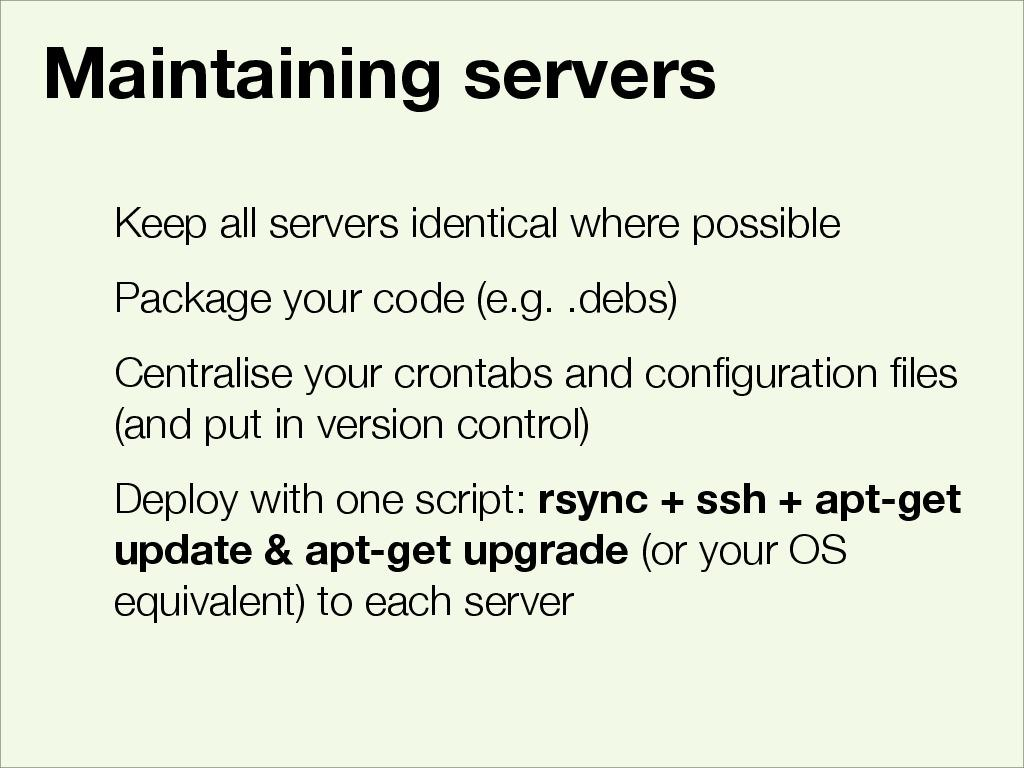paragraph: (100, 178, 997, 640)
title: (33, 30, 731, 121)
